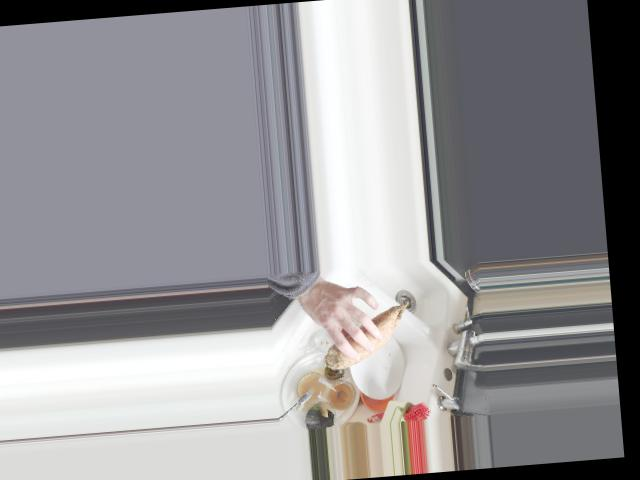sweet_potato: (321, 300, 414, 370)
